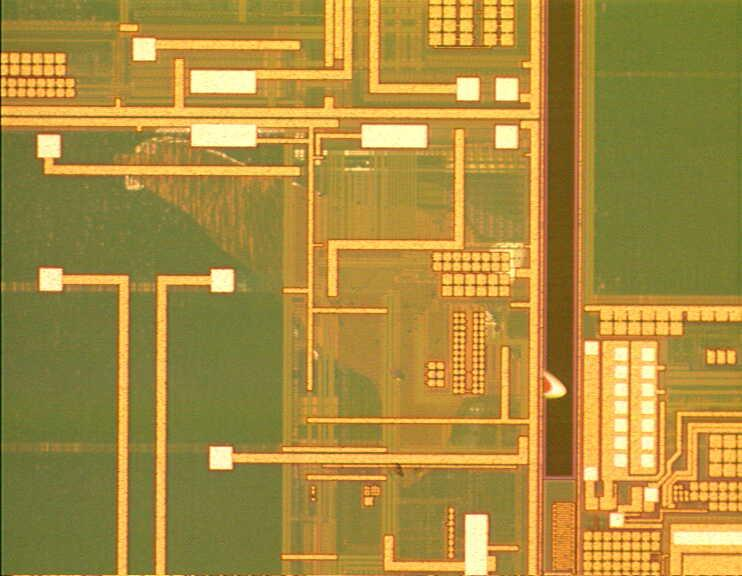COATING BAD: (125, 133, 571, 491)
